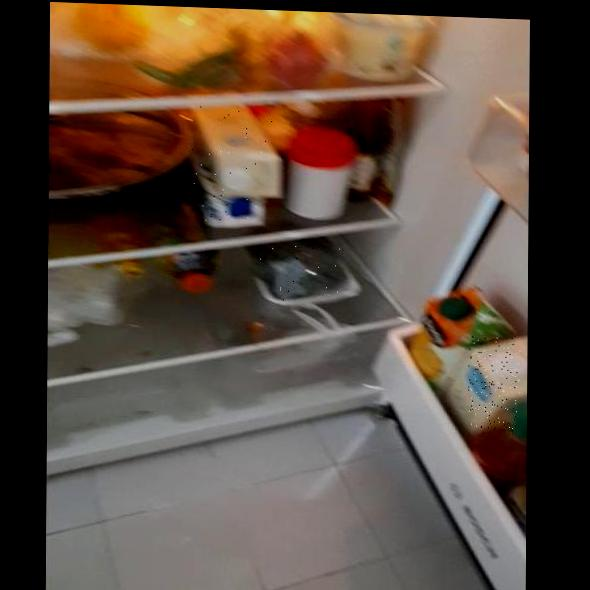broccoli: (257, 244, 345, 304)
juice: (423, 281, 466, 384)
milk: (188, 106, 273, 223), (468, 336, 521, 431)
